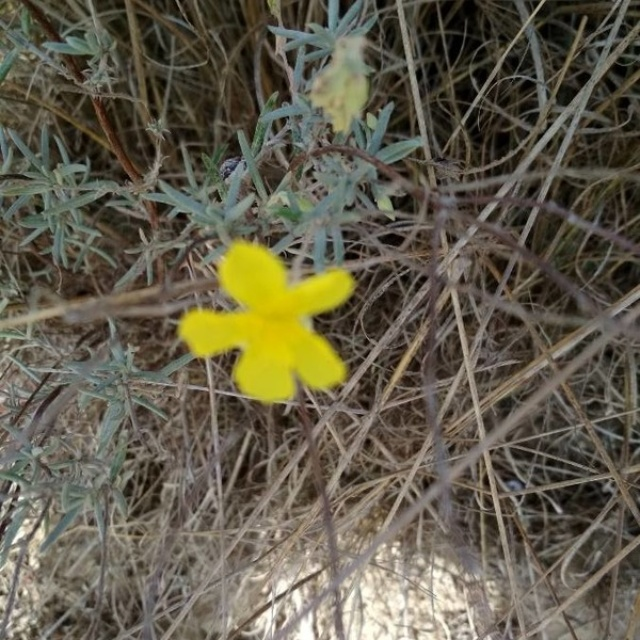obstacle: (159, 135, 382, 428)
